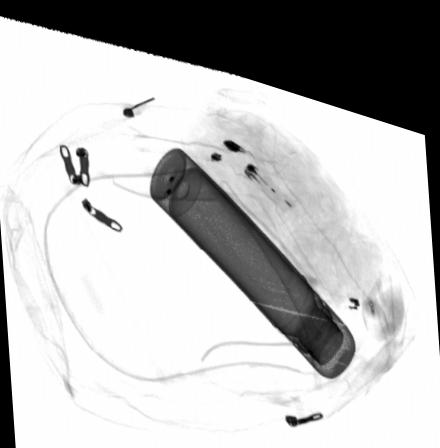Lighter: (242, 143, 295, 194)
